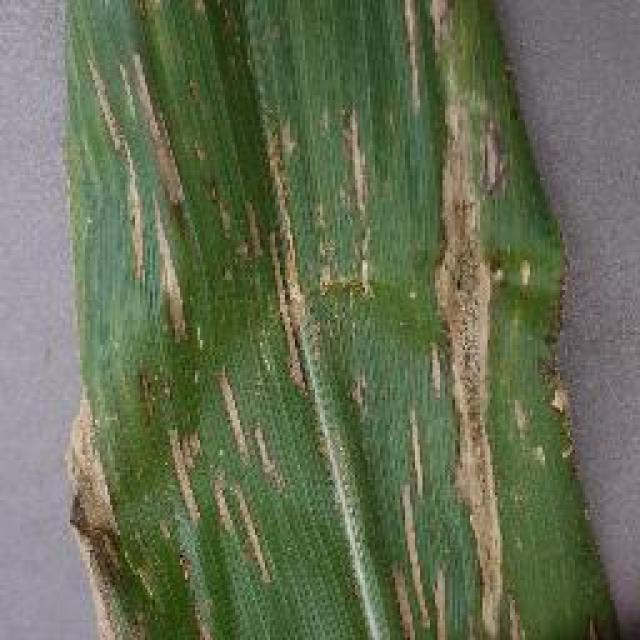Corn___Cercospora_leaf_spot Gray_leaf_spot: (35, 0, 627, 640)
